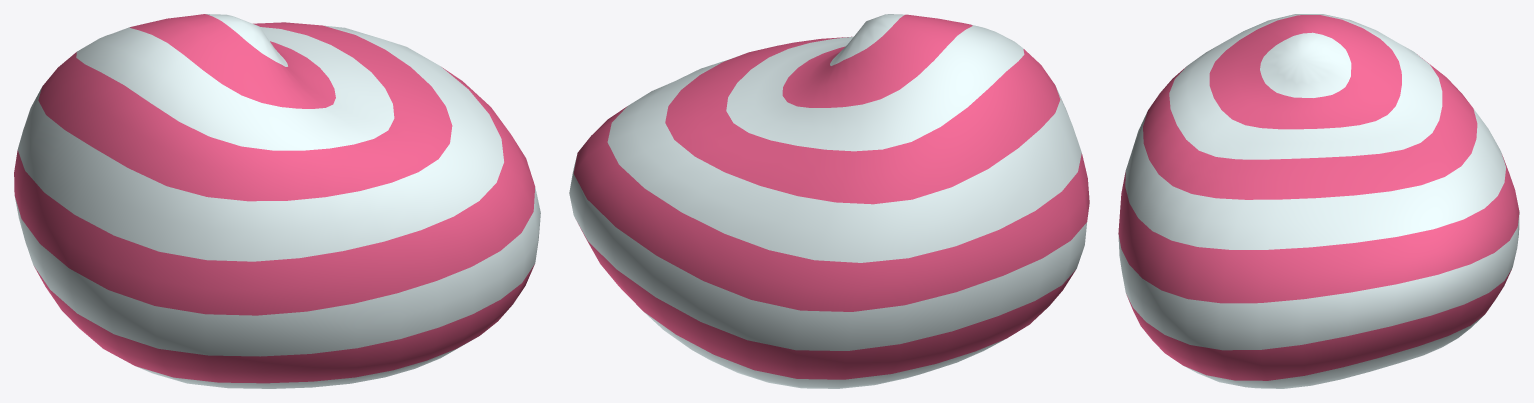
The model's file is CandyPlant_B_03.fbx.
The picture shows the model from 3 angles, left to right: view 1: azimuth 30°, elevation 25°; view 2: azimuth 150°, elevation 25°; view 3: azimuth 270°, elevation 25°; orthographic projection. The views are drawn at different scales.
Parts seen in each view (by area): view 1: CandyPlant_B_03_LOD0; view 2: CandyPlant_B_03_LOD0; view 3: CandyPlant_B_03_LOD0.
Part boxes in pixels (left/top/right/bottom): CandyPlant_B_03_LOD0: left=14, top=14, right=540, bottom=388; CandyPlant_B_03_LOD0: left=569, top=14, right=1089, bottom=388; CandyPlant_B_03_LOD0: left=1118, top=14, right=1519, bottom=388.
Size of what is drawn, in the model's own units: 621 by 440 by 564.
